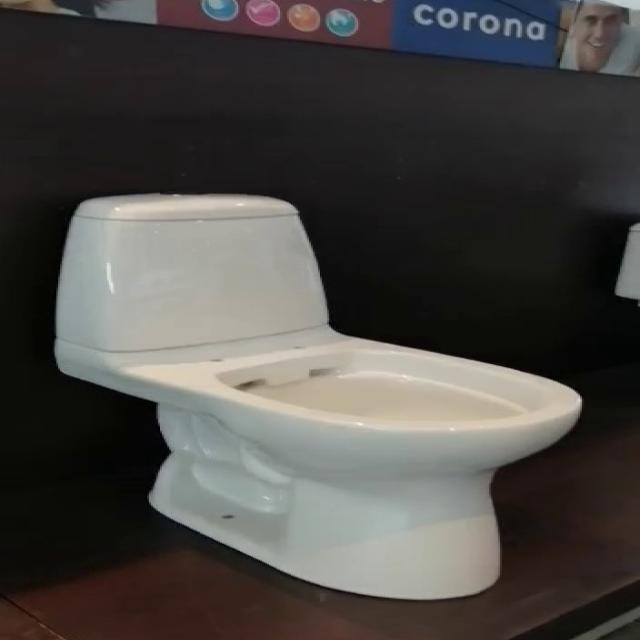toilet: (51, 191, 582, 600)
